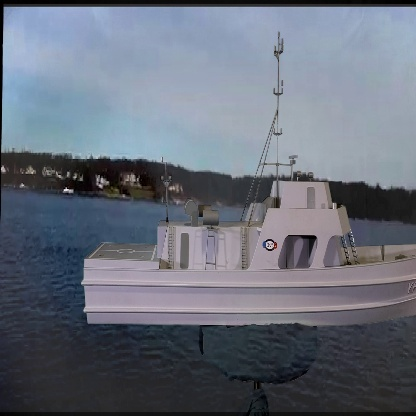YP689: (80, 33, 416, 331)
